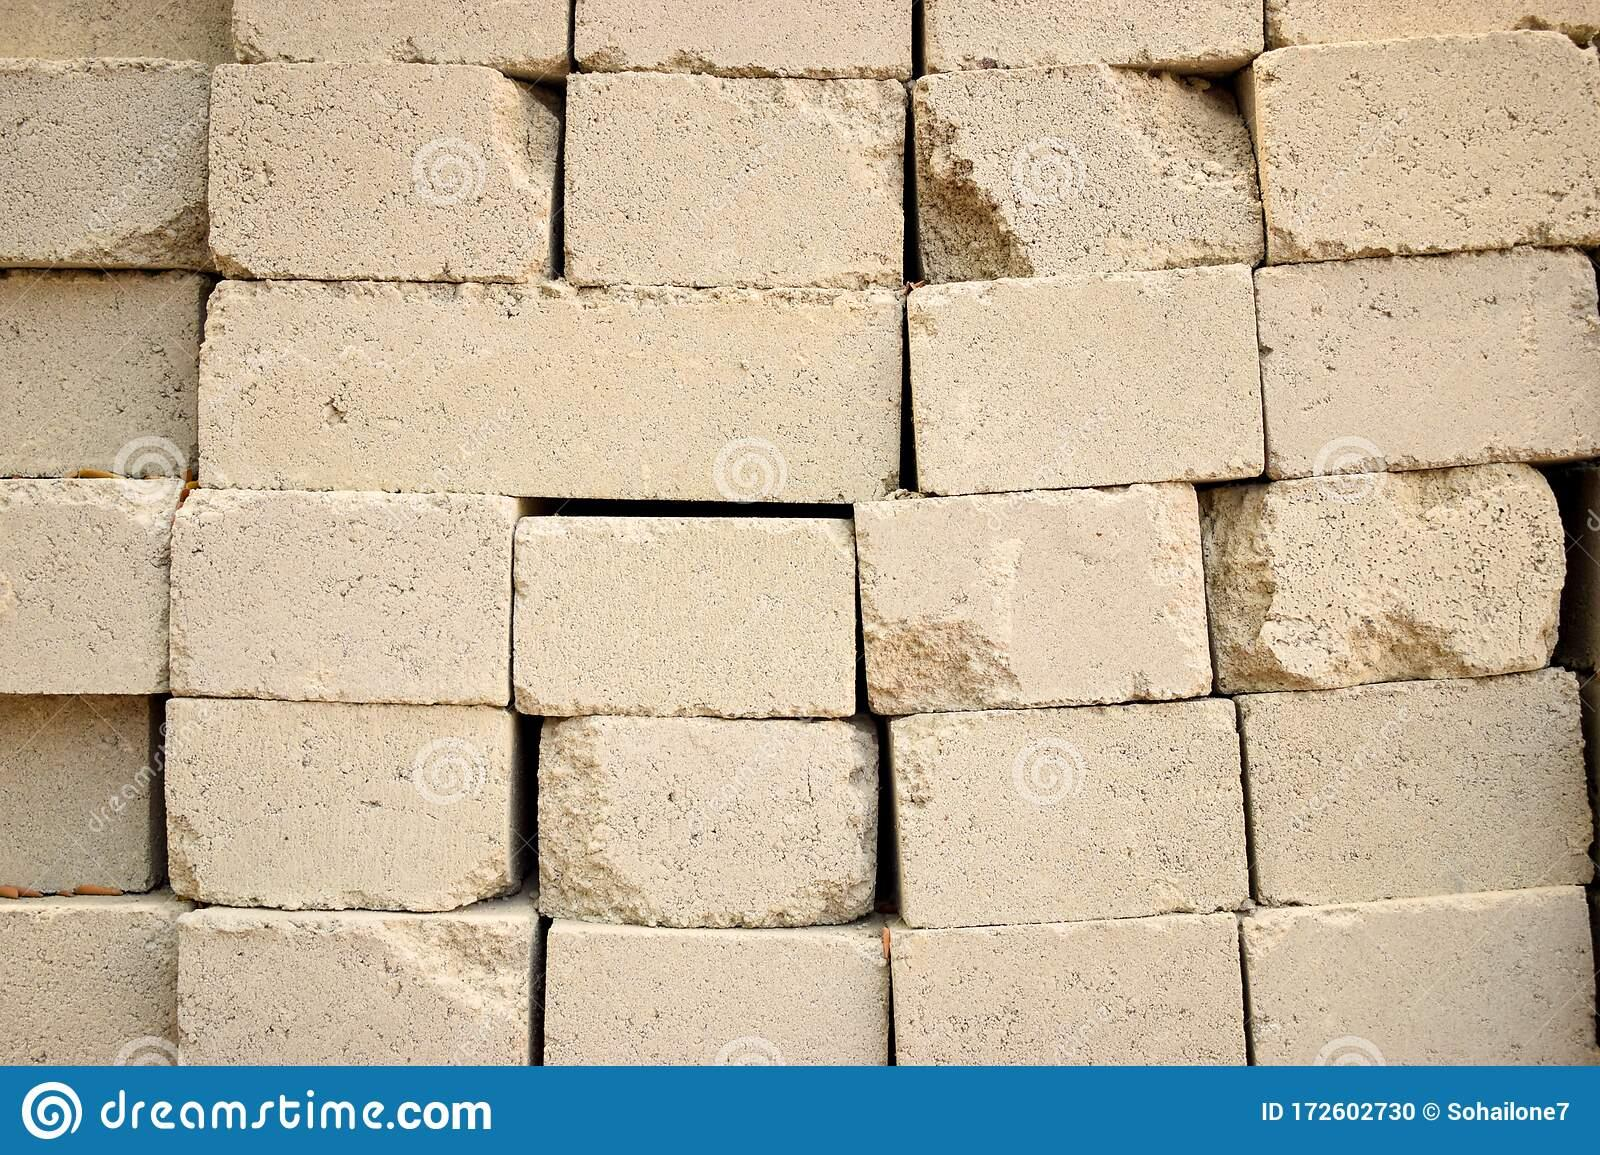brick: (194, 279, 903, 491), (1243, 669, 1590, 903), (1210, 457, 1560, 687), (911, 263, 1260, 491), (893, 703, 1250, 923), (853, 493, 1206, 710), (1260, 247, 1594, 473), (1253, 40, 1590, 253), (560, 77, 907, 283), (511, 510, 863, 713), (176, 493, 513, 700), (166, 707, 513, 907), (206, 73, 543, 273), (920, 73, 1250, 277), (537, 727, 873, 913), (1250, 893, 1594, 1071), (180, 910, 533, 1063), (897, 917, 1234, 1067), (543, 923, 893, 1063), (0, 57, 196, 273), (0, 269, 194, 479), (4, 483, 166, 693), (4, 903, 170, 1077), (6, 700, 153, 897)
